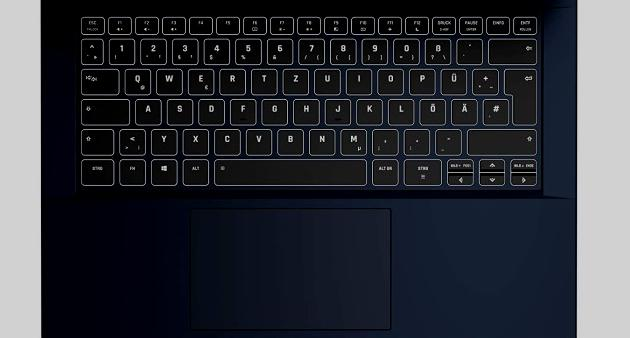0: (391, 36, 419, 63)
1: (107, 36, 134, 63)
2: (137, 36, 166, 63)
3: (169, 36, 197, 63)
4: (202, 36, 229, 63)
5: (233, 36, 261, 63)
6: (265, 36, 292, 63)
7: (296, 36, 324, 63)
8: (328, 36, 355, 63)
9: (359, 36, 387, 63)
a: (133, 96, 161, 123)
accent: (454, 36, 481, 62)
ae: (449, 96, 476, 123)
alt-left: (180, 156, 208, 184)
altgr-right: (370, 156, 398, 184)
b: (275, 126, 303, 154)
c: (212, 126, 240, 154)
caret: (79, 36, 103, 63)
comma: (370, 126, 397, 154)
d: (196, 96, 224, 123)
del: (487, 36, 536, 62)
e: (186, 66, 213, 93)
enter: (501, 65, 536, 124)
f: (228, 96, 255, 123)
g: (259, 96, 287, 123)
h: (291, 96, 318, 123)
hash: (481, 96, 507, 123)
i: (344, 66, 371, 92)
j: (323, 96, 349, 123)
k: (354, 96, 382, 123)
keyboard: (66, 9, 548, 195)
l: (386, 96, 413, 123)
less: (116, 126, 145, 154)
m: (338, 126, 366, 154)
minus: (432, 126, 460, 153)
n: (307, 126, 334, 154)
o: (375, 66, 403, 93)
oe: (417, 96, 445, 123)
p: (407, 66, 434, 93)
plus: (470, 66, 497, 93)
point: (402, 126, 429, 153)
q: (122, 66, 150, 93)
r: (217, 66, 245, 93)
s: (164, 96, 192, 124)
shift-left: (81, 128, 115, 156)
shift-lock: (81, 99, 131, 126)
shift-right: (466, 128, 538, 156)
space: (212, 156, 365, 185)
ss: (423, 36, 450, 63)
strg-left: (78, 156, 113, 184)
strg-right: (403, 158, 443, 186)
t: (249, 66, 276, 93)
tab: (78, 66, 118, 93)
u: (312, 66, 340, 93)
ue: (438, 66, 466, 93)
v: (244, 126, 271, 153)
w: (154, 66, 182, 93)
x: (181, 126, 208, 154)
y: (149, 126, 176, 154)
z: (281, 66, 308, 93)
